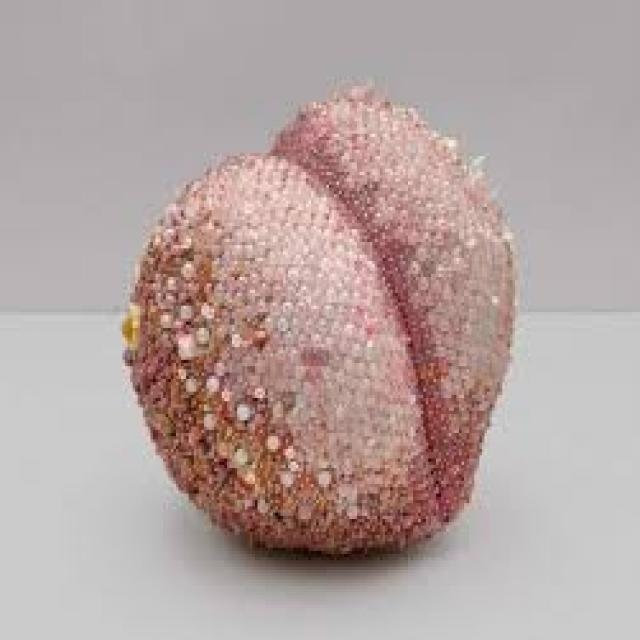organic waste: (120, 73, 515, 554)
